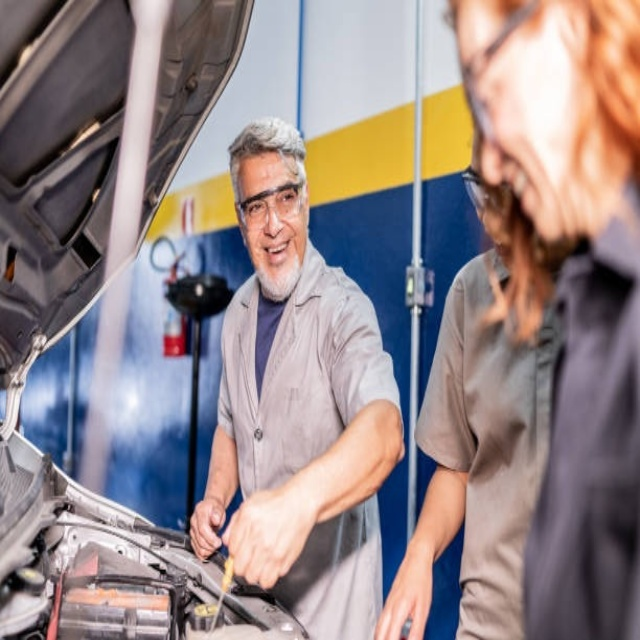Gafas: (452, 1, 548, 158), (237, 181, 304, 228), (463, 164, 516, 221)
Sin_guantes: (218, 487, 299, 589), (370, 527, 441, 632), (189, 494, 228, 561)
Sin_mascara: (486, 158, 558, 249), (258, 236, 295, 280)
